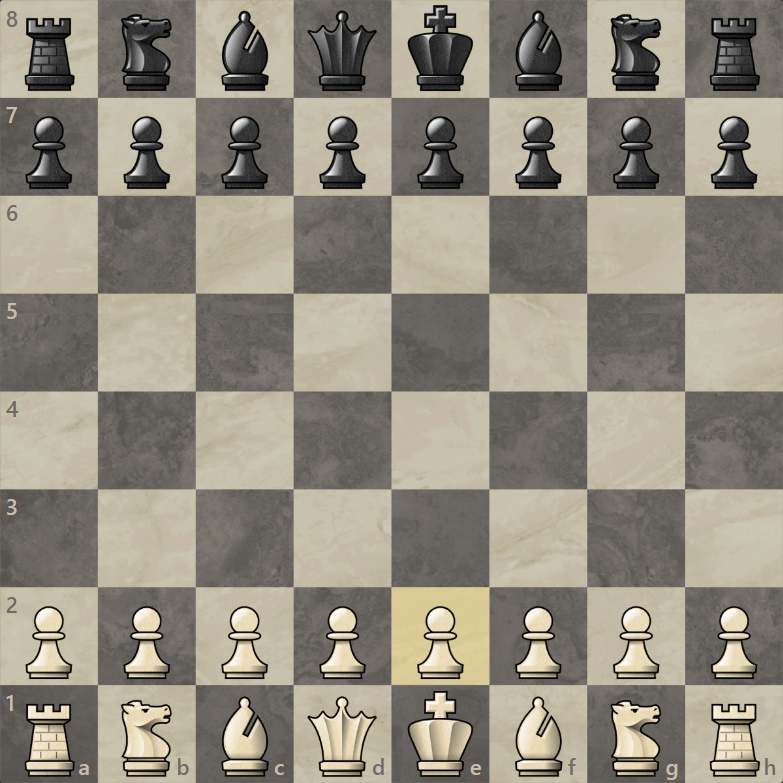B: (512, 694, 565, 780), (219, 694, 271, 779)
K: (404, 688, 476, 780)
N: (606, 696, 667, 780), (115, 697, 176, 780)
P: (22, 602, 76, 682), (118, 602, 172, 682), (218, 601, 272, 681), (316, 600, 370, 680), (414, 602, 468, 682), (512, 602, 566, 682), (607, 601, 661, 681), (708, 601, 762, 681)
Q: (306, 693, 378, 780)
R: (20, 701, 79, 779), (708, 699, 760, 779)
b: (508, 8, 568, 94), (217, 8, 270, 95)
k: (403, 2, 476, 94)
n: (116, 10, 176, 94), (606, 12, 665, 94)
p: (23, 114, 74, 191), (121, 115, 172, 192), (218, 113, 269, 190), (318, 113, 369, 190), (414, 115, 465, 192), (513, 115, 564, 192), (610, 113, 661, 190), (708, 115, 759, 192)
q: (307, 8, 377, 94)
r: (20, 14, 78, 94), (705, 13, 762, 92)
